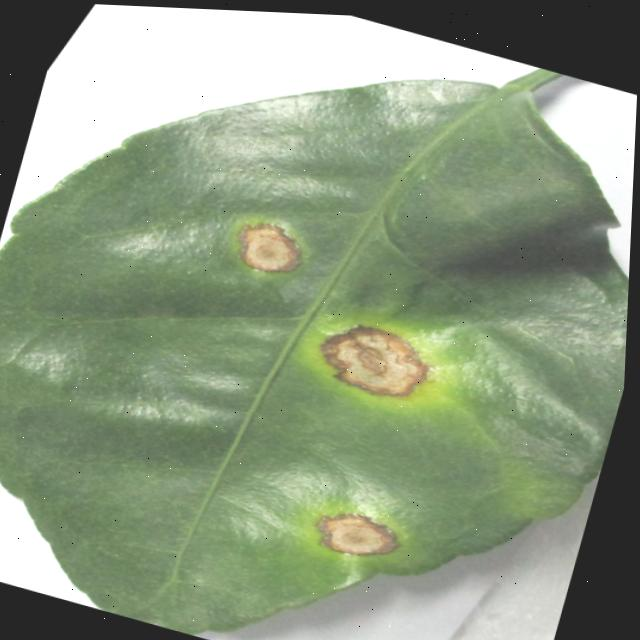antracnose: (0, 67, 629, 634), (320, 325, 429, 395), (317, 513, 399, 554), (239, 223, 300, 271)
